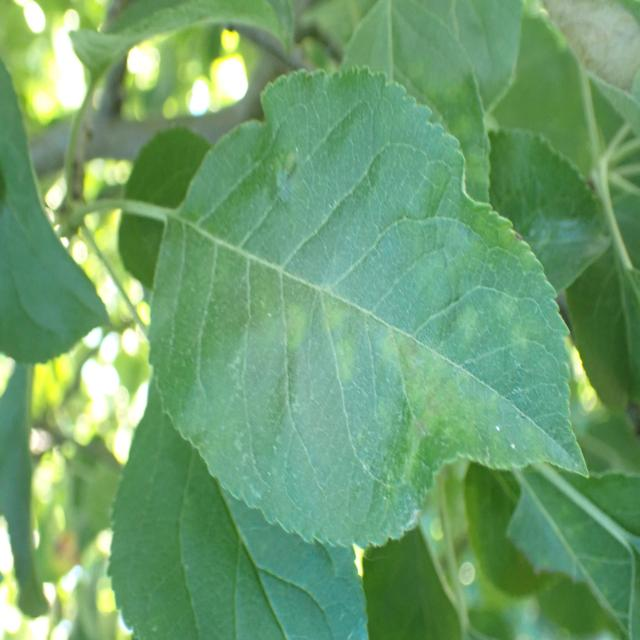scab: (207, 149, 542, 490)
